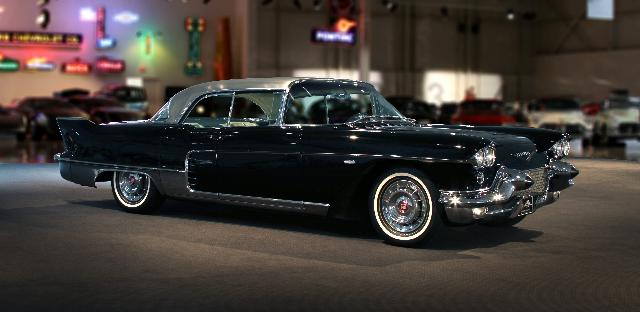cadillac: (53, 77, 579, 247)
